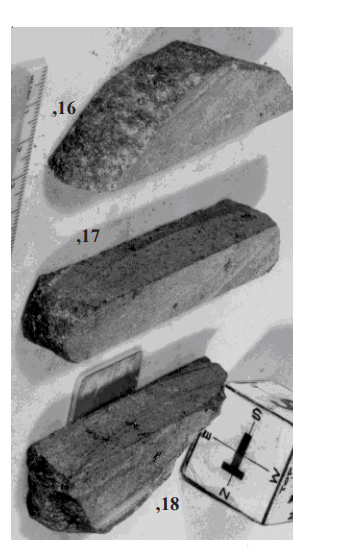Basalt: (11, 194, 291, 361), (16, 32, 292, 188), (11, 370, 238, 529)
